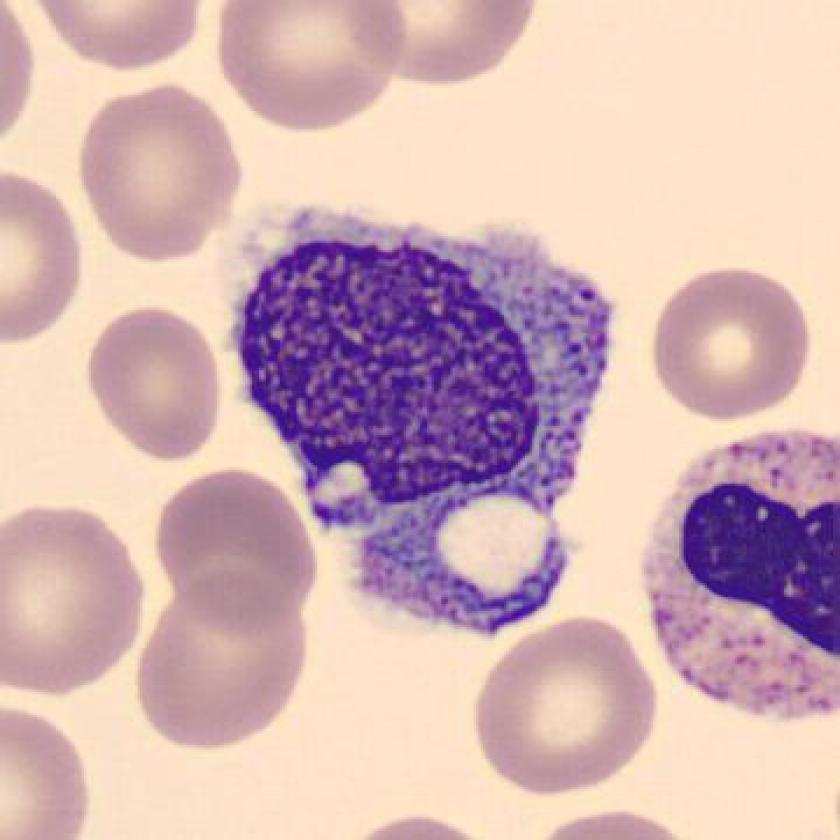monocyte: (206, 170, 638, 653)
